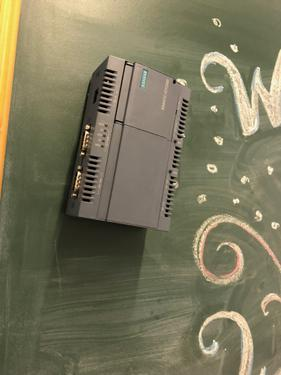device: (65, 55, 192, 233)
